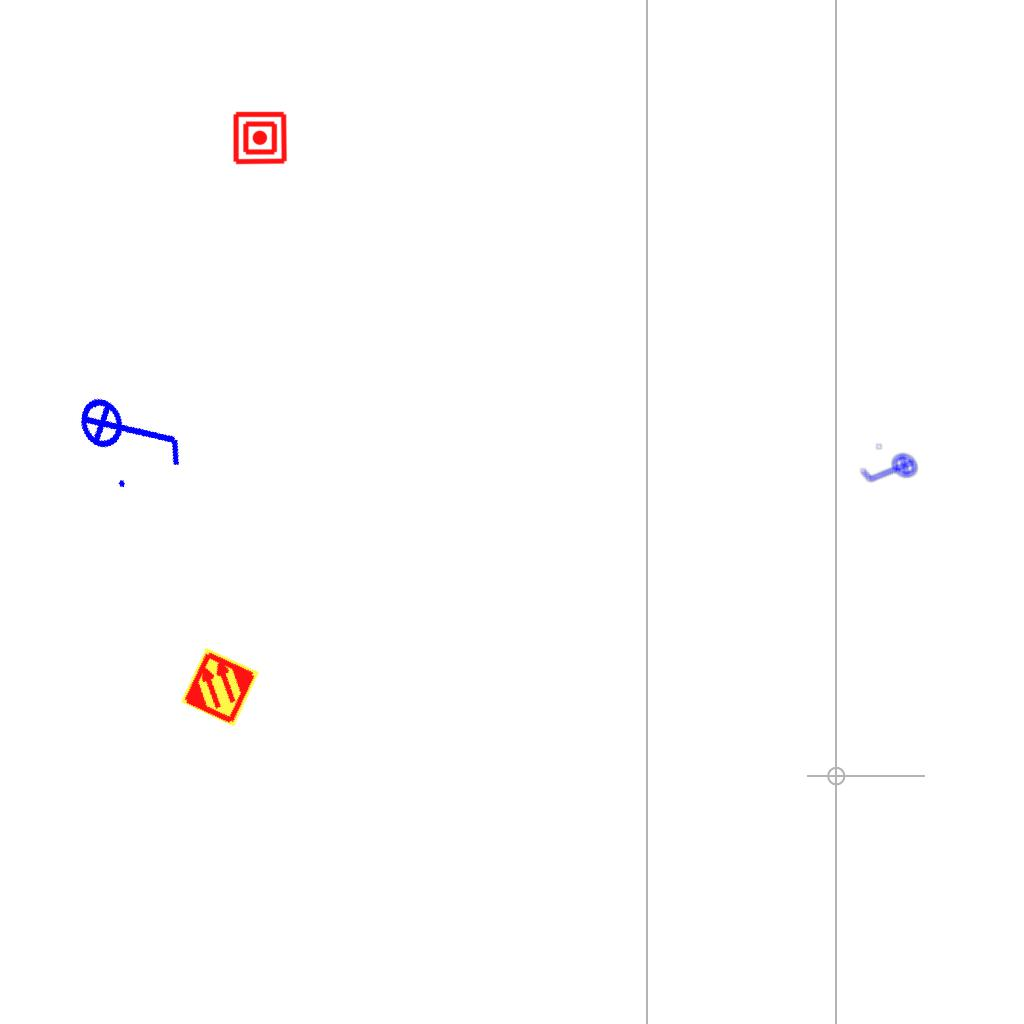ASR_Ansaugrauchmelder: (178, 645, 262, 729)
Ausschalter_beleuchtet: (68, 362, 196, 500), (853, 435, 927, 507)
NAM-Nichtautomatischer_Melder: (232, 110, 288, 166)
